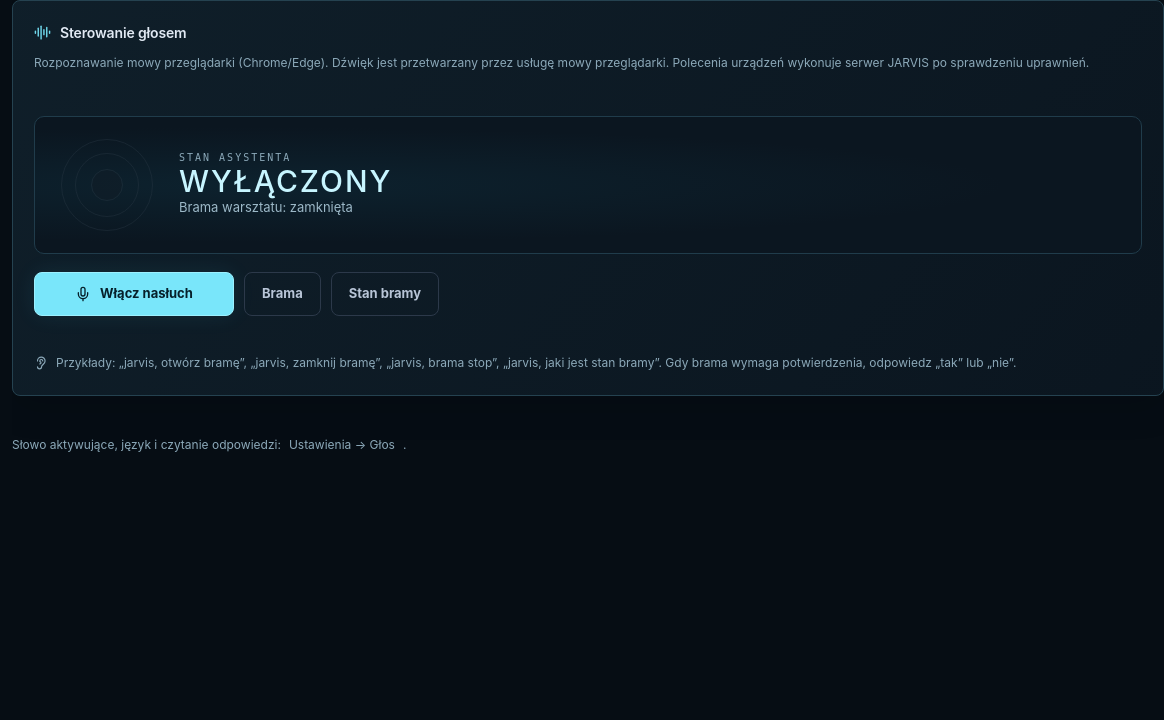
Voice panel › ignores non-device phrases unless sending to the model is enabled
Expected: the text "Brama warsztatu: zamknięta" is shown, [179,199,353,215]
Click the button "Włącz nasłuch".
click(134, 294)  # box [34,272,234,316]
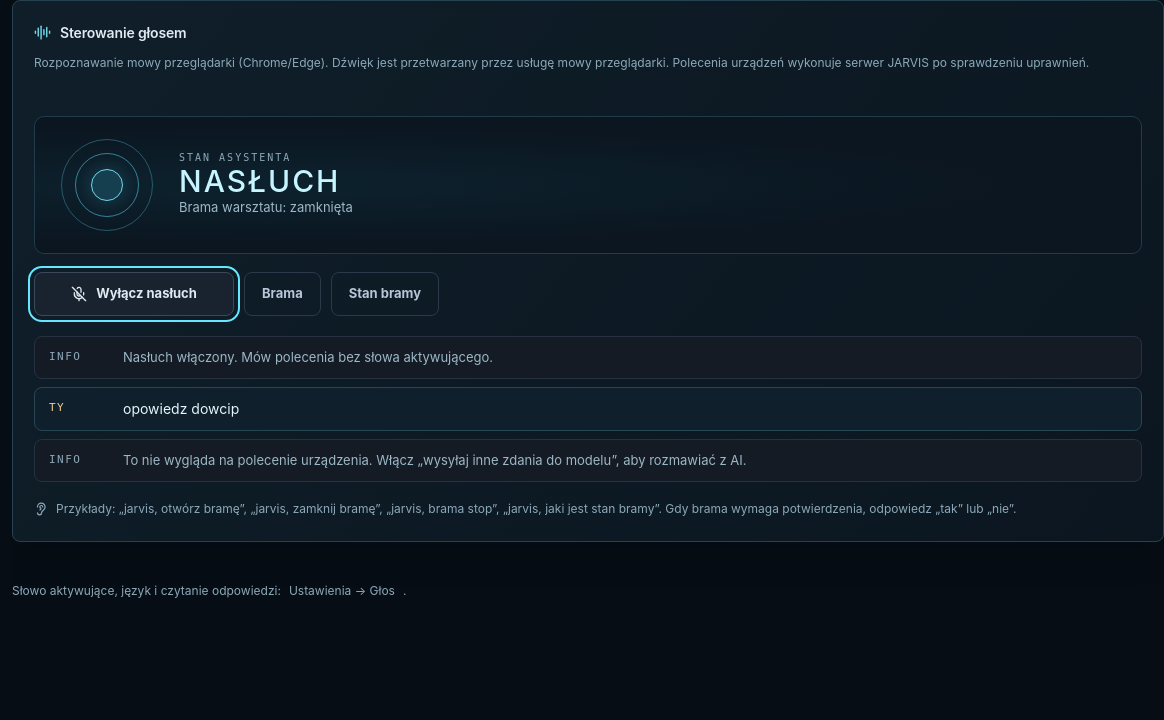
Result: the list item "To nie wygląda na polecenie urządzenia" is shown at [123,452,747,468]
